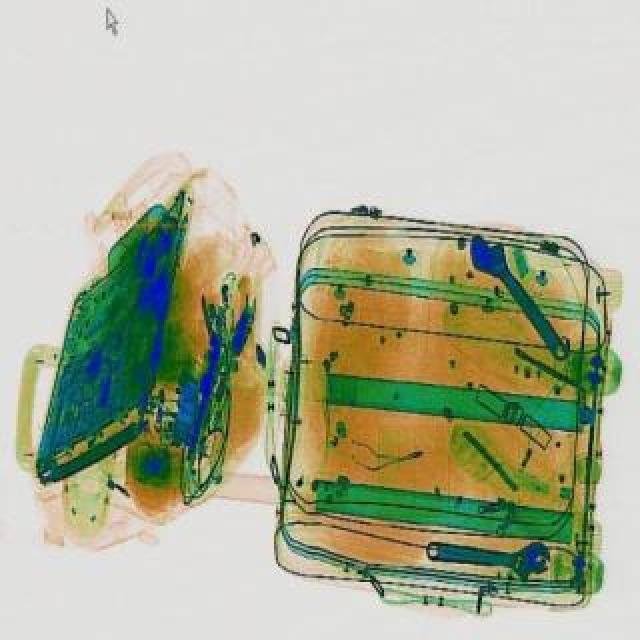scissors: (456, 224, 582, 366), (420, 524, 552, 580)
